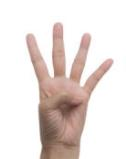right: (21, 19, 116, 143)
